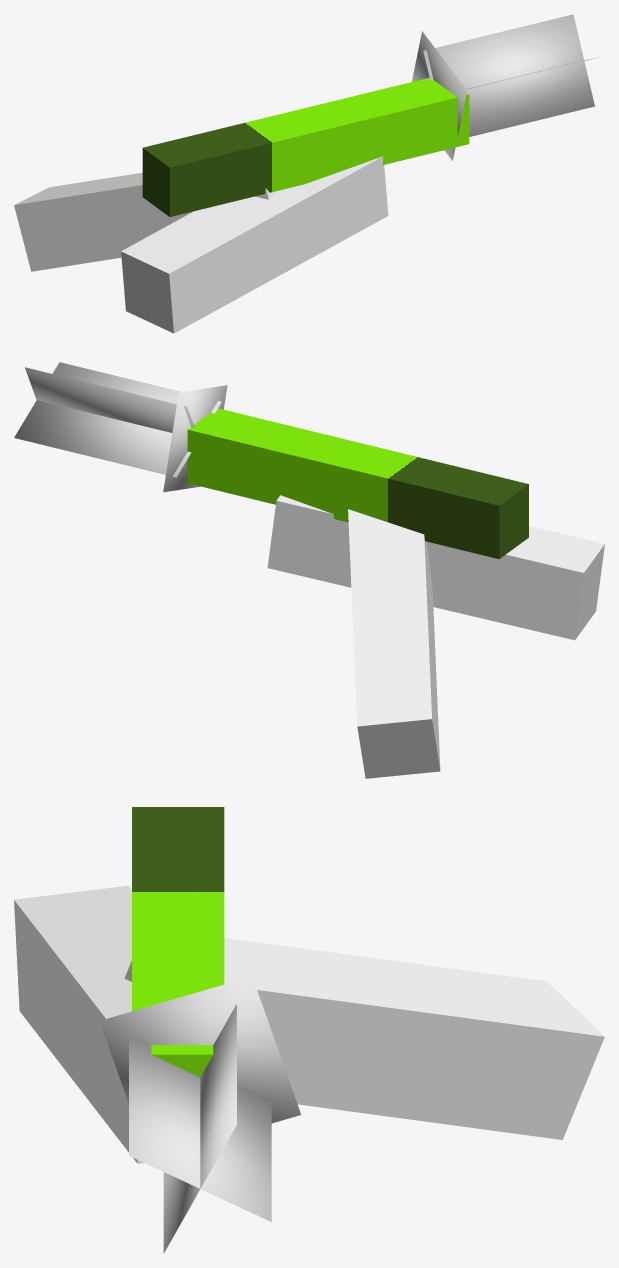
The model's file is lev.rshgtest.glb.
3 renders of one model, top to bottom at view 1: azimuth 30°, elevation 25°; view 2: azimuth 150°, elevation 25°; view 3: azimuth 270°, elevation 25°, orthographic. The views are drawn at different scales.
Visible parts, largest first — view 1: bulletModel_0, rightArmLayerModel, flashModel, leftArmLayerSlimModel, leftArmLayerModel, rightArmLayerSlimModel; view 2: bulletModel_0, rightArmLayerModel, leftArmLayerModel, flashModel, leftArmLayerSlimModel, rightArmLayerSlimModel; view 3: leftArmLayerModel, flashModel, rightArmLayerModel, bulletModel_0, leftArmLayerSlimModel.
Boxes of the visible parts, x1,y1,x2,y2 form: bulletModel_0: [142, 77, 469, 216]; rightArmLayerModel: [121, 156, 388, 333]; flashModel: [412, 14, 602, 160]; leftArmLayerSlimModel: [14, 185, 275, 271]; leftArmLayerModel: [15, 172, 275, 271]; rightArmLayerSlimModel: [121, 251, 160, 310]; bulletModel_0: [187, 408, 528, 559]; rightArmLayerModel: [267, 501, 604, 640]; leftArmLayerModel: [348, 509, 440, 778]; flashModel: [14, 362, 227, 492]; leftArmLayerSlimModel: [367, 515, 440, 766]; rightArmLayerSlimModel: [276, 495, 599, 612]; leftArmLayerModel: [129, 944, 604, 1139]; flashModel: [99, 976, 301, 1253]; rightArmLayerModel: [14, 885, 143, 1163]; bulletModel_0: [132, 807, 224, 1077]; leftArmLayerSlimModel: [124, 938, 317, 985].
Size of what is drawn, in the model's own units: 23.64 by 10.52 by 14.74.
4 materials, 3 textured.
